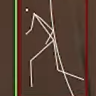hacks_3: (14, 1, 88, 96)
